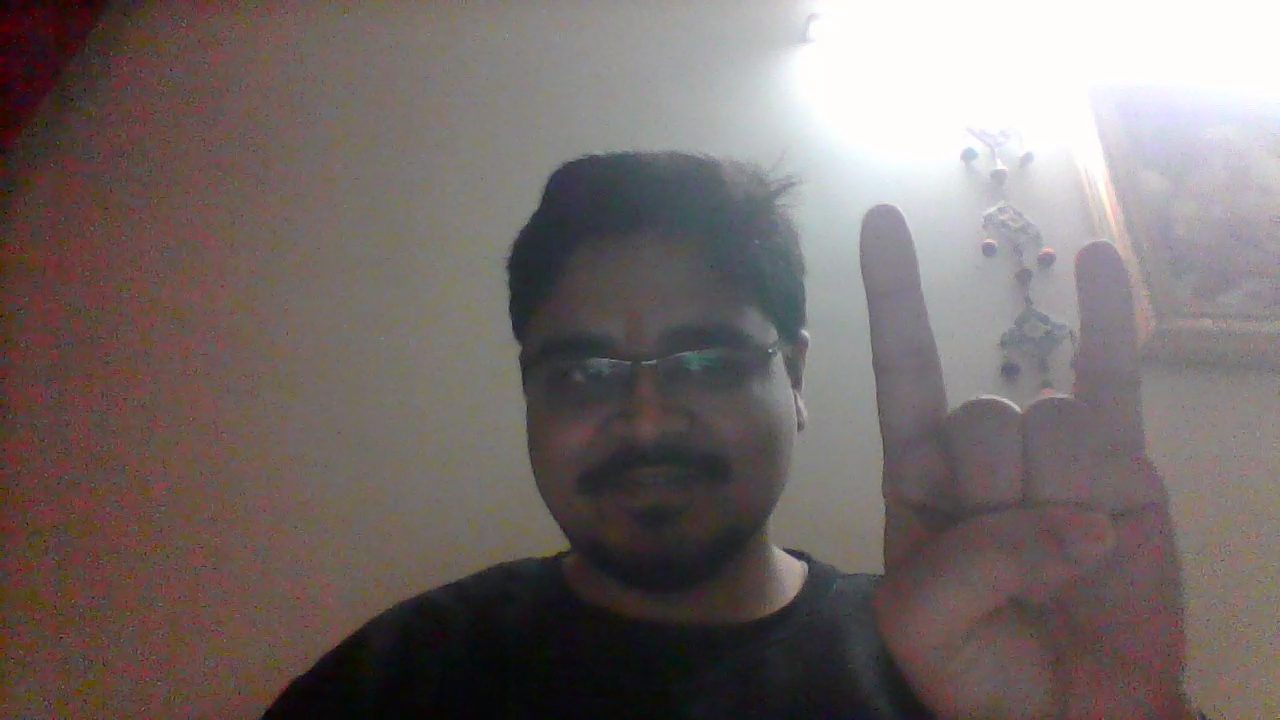ILoveYou: (853, 204, 1197, 704)
